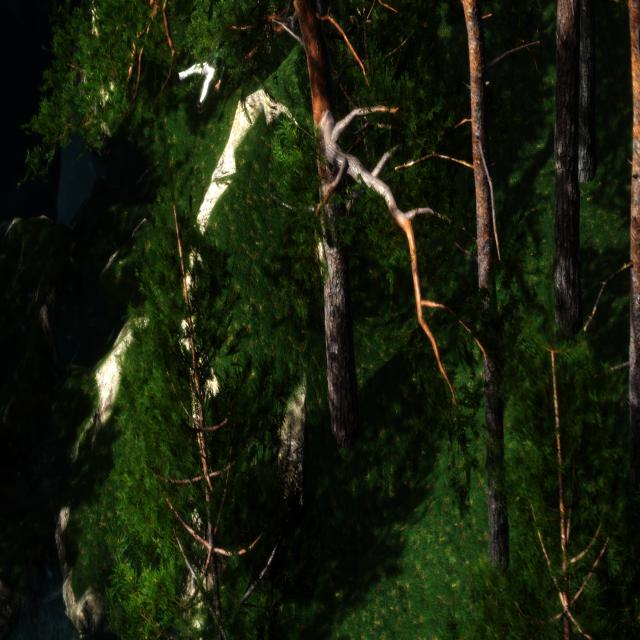Human: (175, 29, 227, 121)
